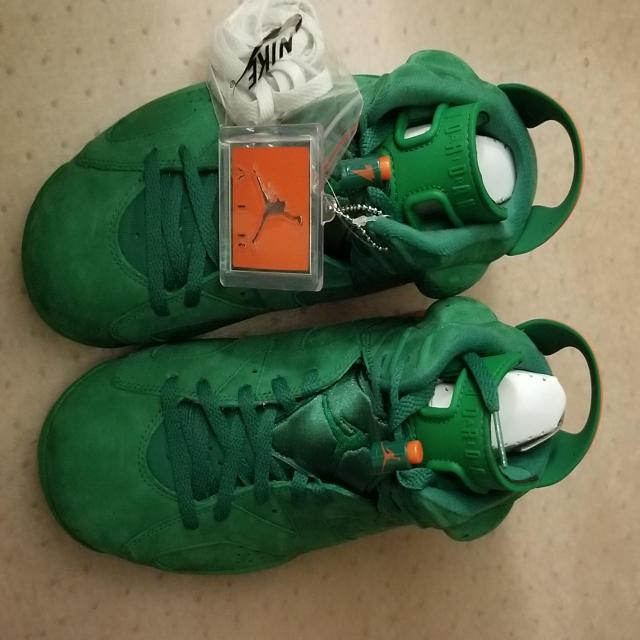shoe: (16, 45, 593, 358), (28, 290, 606, 586)
